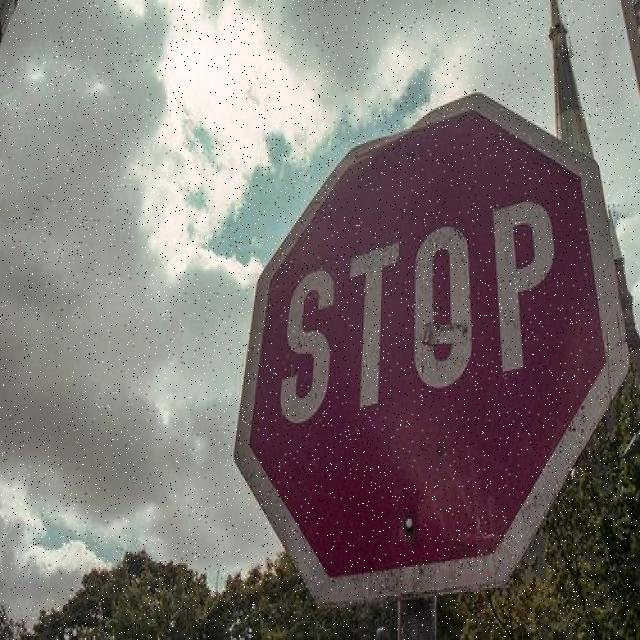stop: (241, 87, 626, 601)
